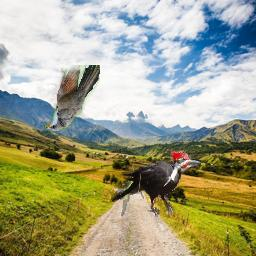Cuckoo: (44, 65, 100, 131)
Woodpecker: (111, 150, 201, 220)
